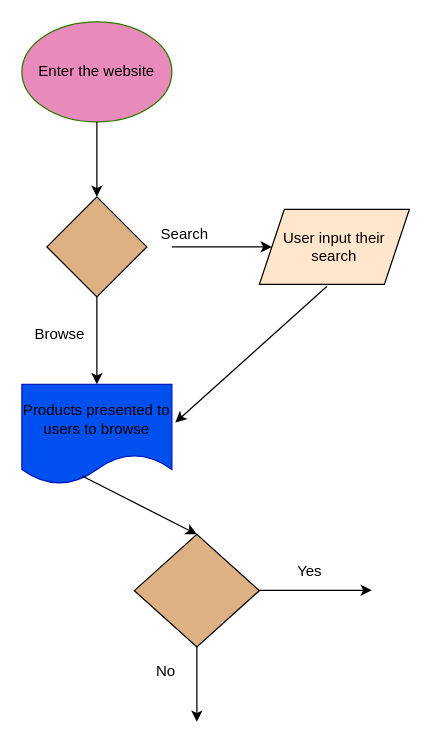
The diagram is 431 pixels wide and 754 high, and some of its shapes have lost their labels. Each missing label, with the centre of its shape:
"User's Action" belongs at (96,246).
"View the specfic product ?" belongs at (196,590).
